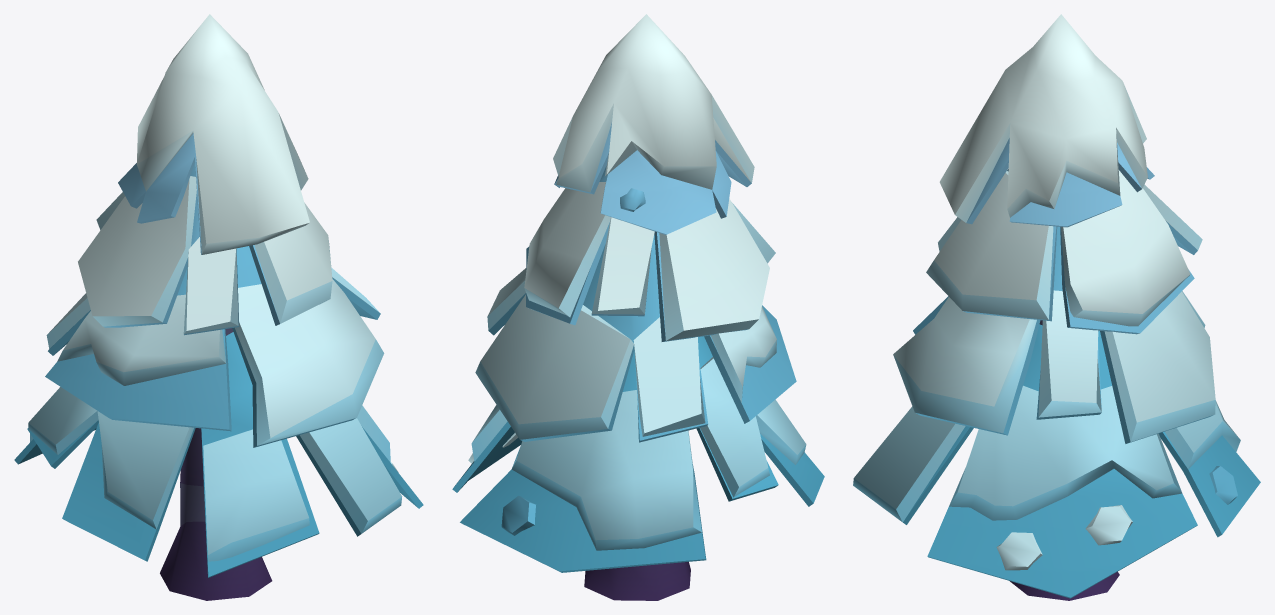
File: Tree_01.fbx
3 renders of one model, left to right at view 1: azimuth 30°, elevation 25°; view 2: azimuth 150°, elevation 25°; view 3: azimuth 270°, elevation 25°, orthographic.
Visible parts, largest first — view 1: Cylinder.001; view 2: Cylinder.001; view 3: Cylinder.001.
Boxes of the visible parts, <box> form: Cylinder.001: <box>14,14,423,600</box>; Cylinder.001: <box>452,14,824,600</box>; Cylinder.001: <box>853,14,1260,600</box>.
Bounding box in the file's own units: 333 × 536 × 354.
